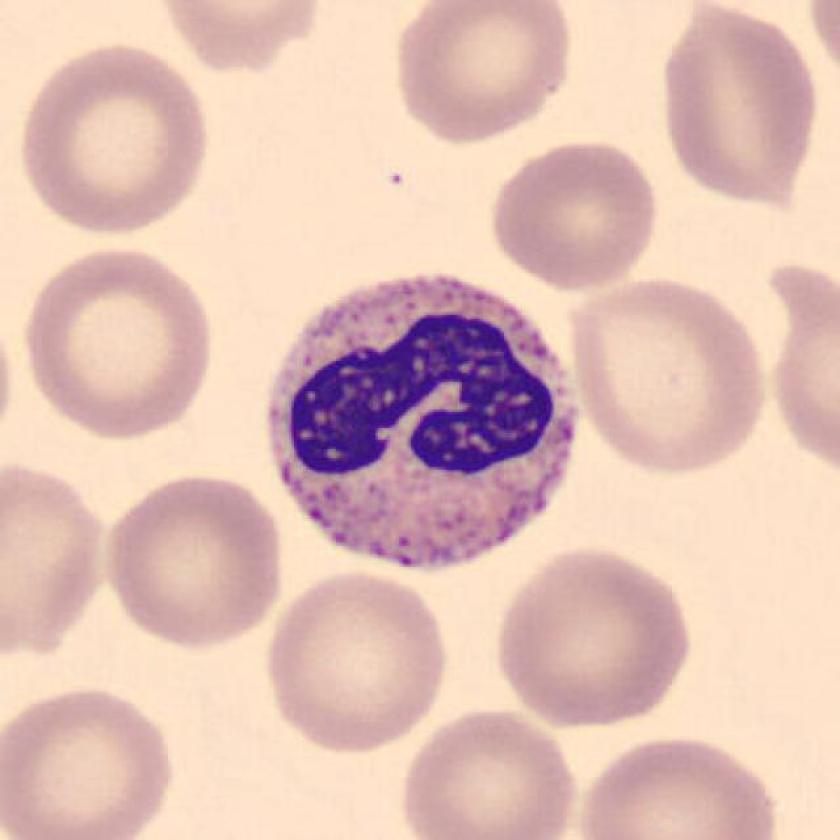neutrophil: (270, 283, 579, 564)
